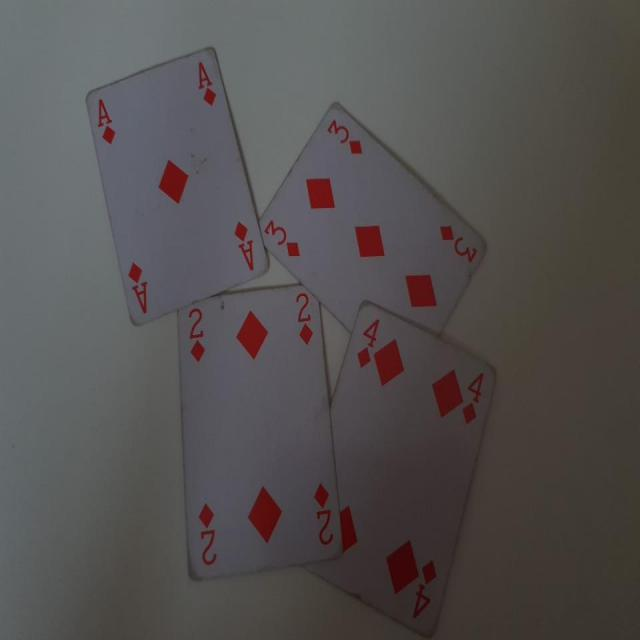2 Diamonds: (175, 282, 346, 581)
3 Diamonds: (254, 102, 487, 337)
4 Diamonds: (321, 301, 498, 640)
A Diamonds: (76, 41, 272, 334)
